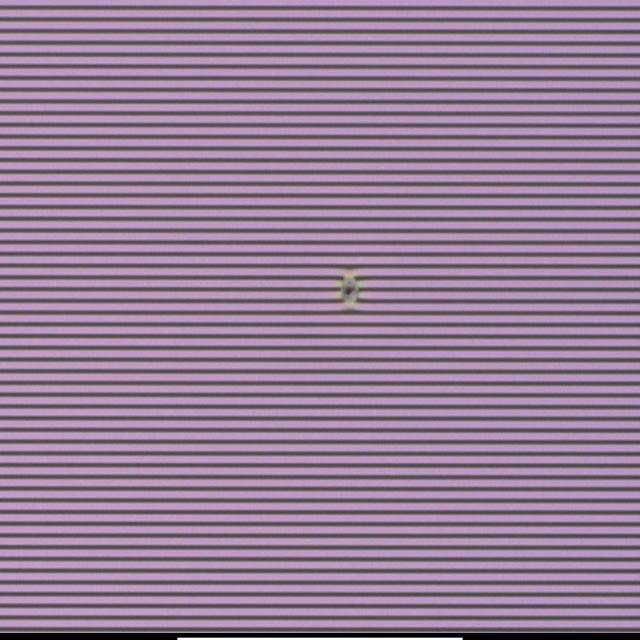03_intrusion: (338, 274, 360, 307)
